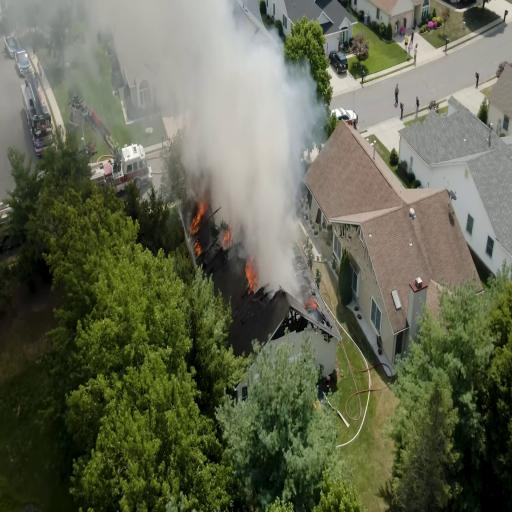smoke: (194, 46, 279, 198), (128, 0, 220, 73), (257, 72, 288, 258)
